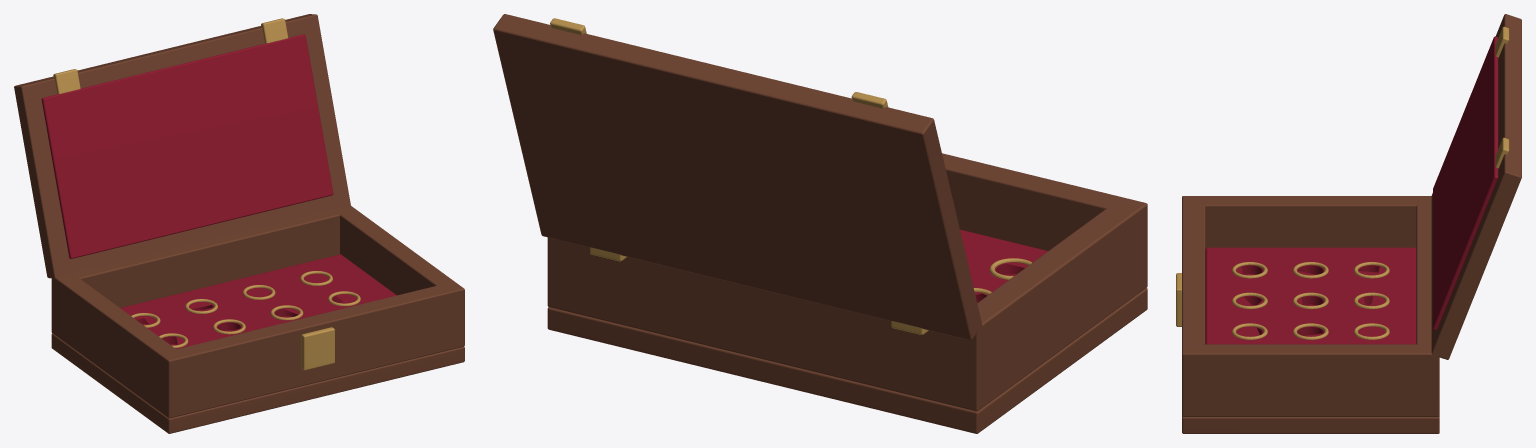
Rendered from ExampleCoffer.fbx.
3 renders of one model, left to right at view 1: azimuth 30°, elevation 25°; view 2: azimuth 150°, elevation 25°; view 3: azimuth 270°, elevation 25°, orthographic. The views are drawn at different scales.
Parts seen in each view (by area): view 1: Lid_Velvet, Base_Front, Lid_Panel, Base_Back, Velvet_12_Recess_Tray, Base_Side_-1, Base_Bottom, Base_Side_1, Latch, Lid_BrassCorner_0.06, Lid_BrassCorner_-0.06; view 2: Lid_Panel, Base_Back, Base_Side_-1, Base_Bottom, Base_Front, Velvet_12_Recess_Tray, Base_Side_1; view 3: Velvet_12_Recess_Tray, Base_Side_1, Base_Side_-1, Lid_Velvet, Lid_Panel, Base_Bottom, Base_Front, Base_Back.
Boxes of the visible parts, <box> form: Lid_Velvet: <box>41,34,333,258</box>; Base_Front: <box>176,285,448,414</box>; Lid_Panel: <box>14,14,350,278</box>; Base_Back: <box>72,209,339,307</box>; Velvet_12_Recess_Tray: <box>120,254,396,349</box>; Base_Side_-1: <box>51,273,185,418</box>; Base_Bottom: <box>51,333,464,433</box>; Base_Side_1: <box>335,205,464,350</box>; Latch: <box>301,327,334,370</box>; Lid_BrassCorner_0.06: <box>261,18,288,43</box>; Lid_BrassCorner_-0.06: <box>53,69,80,94</box>; Lid_Panel: <box>493,14,982,340</box>; Base_Back: <box>571,243,952,405</box>; Base_Side_-1: <box>952,197,1147,411</box>; Base_Bottom: <box>547,288,1147,433</box>; Base_Front: <box>942,153,1122,250</box>; Velvet_12_Recess_Tray: <box>960,229,1047,302</box>; Base_Side_1: <box>547,237,571,312</box>; Velvet_12_Recess_Tray: <box>1205,247,1416,344</box>; Base_Side_1: <box>1182,344,1439,416</box>; Base_Side_-1: <box>1182,196,1431,249</box>; Lid_Velvet: <box>1433,36,1498,330</box>; Lid_Panel: <box>1431,14,1521,359</box>; Base_Bottom: <box>1182,416,1439,433</box>; Base_Front: <box>1182,204,1205,344</box>; Base_Back: <box>1416,204,1431,344</box>.
Size of the model in its own units: 16 by 12.6 by 14.75.
